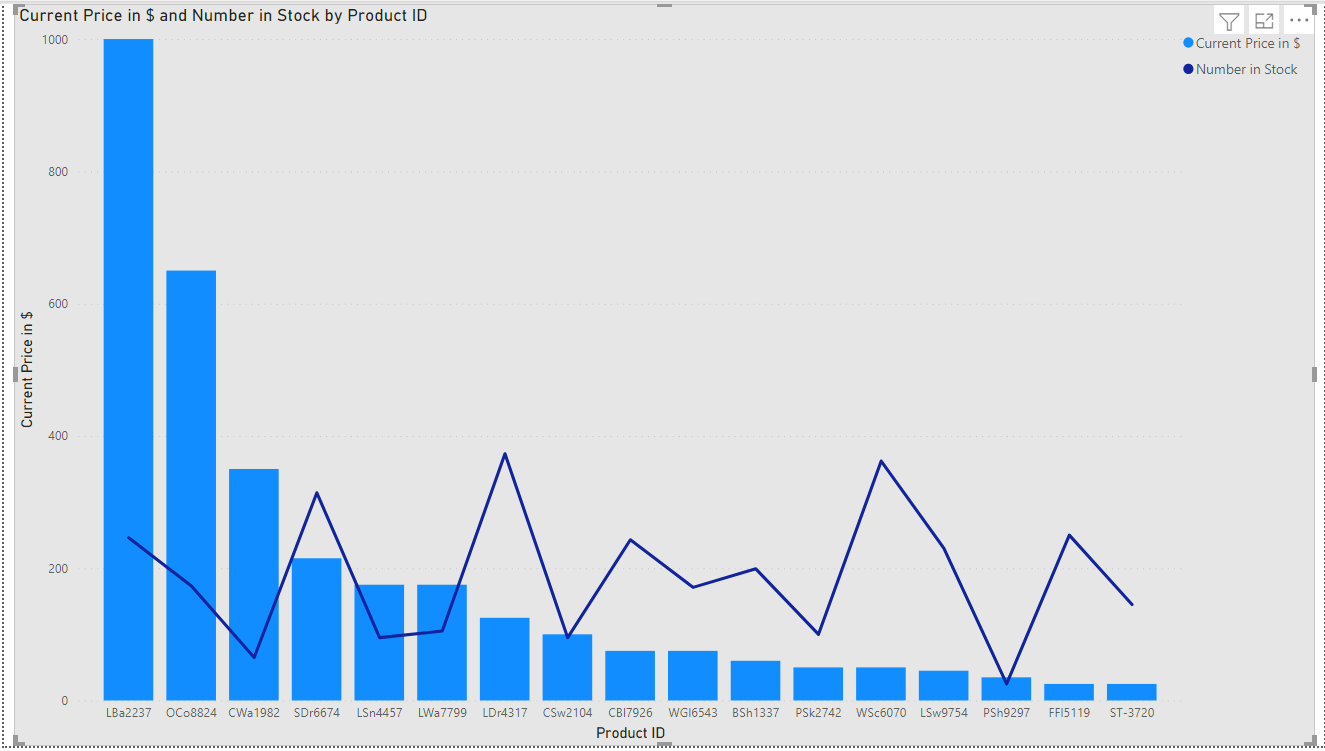

The page's visual inventory and layout, read from the dashboard file:
{"tool":"powerbi","page":{"name":"Column chart","canvas":[1280,720],"ordinal":1},"visuals":[{"type":"lineStackedColumnComboChart","fields":{"Category":["Product Inventory.Product ID"],"Y":["Sum(Product Inventory.Current Price)"],"Y2":["Sum(Product Inventory.Number in Stock)"]},"box":[9.7,0,1261.8,720],"z":0}]}

Visuals, with their boxes in screenshot pixels (x1, y1, x2, y2), scaled from the page's 1280x720 canvas onto the 1325x751 screenshot:
lineStackedColumnComboChart - Product Inventory.Product ID x Sum(Product Inventory.Current Price): region(10, 0, 1316, 750)
